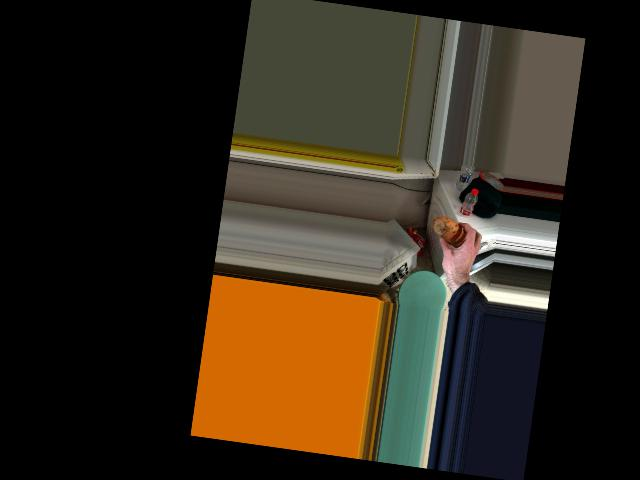sweet_potato: (435, 214, 470, 249)
